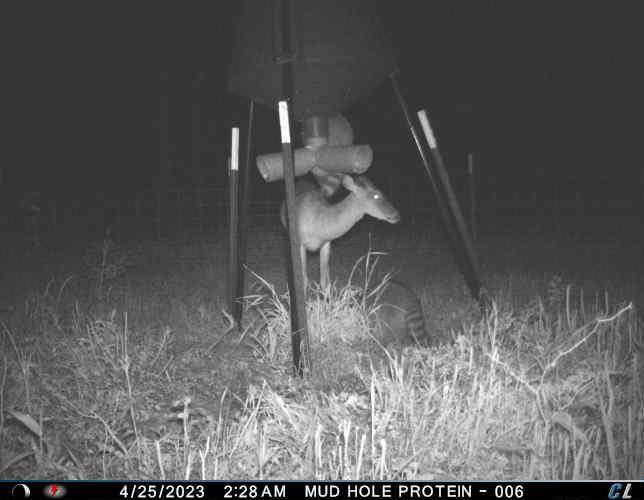Deer: (281, 169, 402, 298)
Raccoon: (359, 279, 437, 358)
